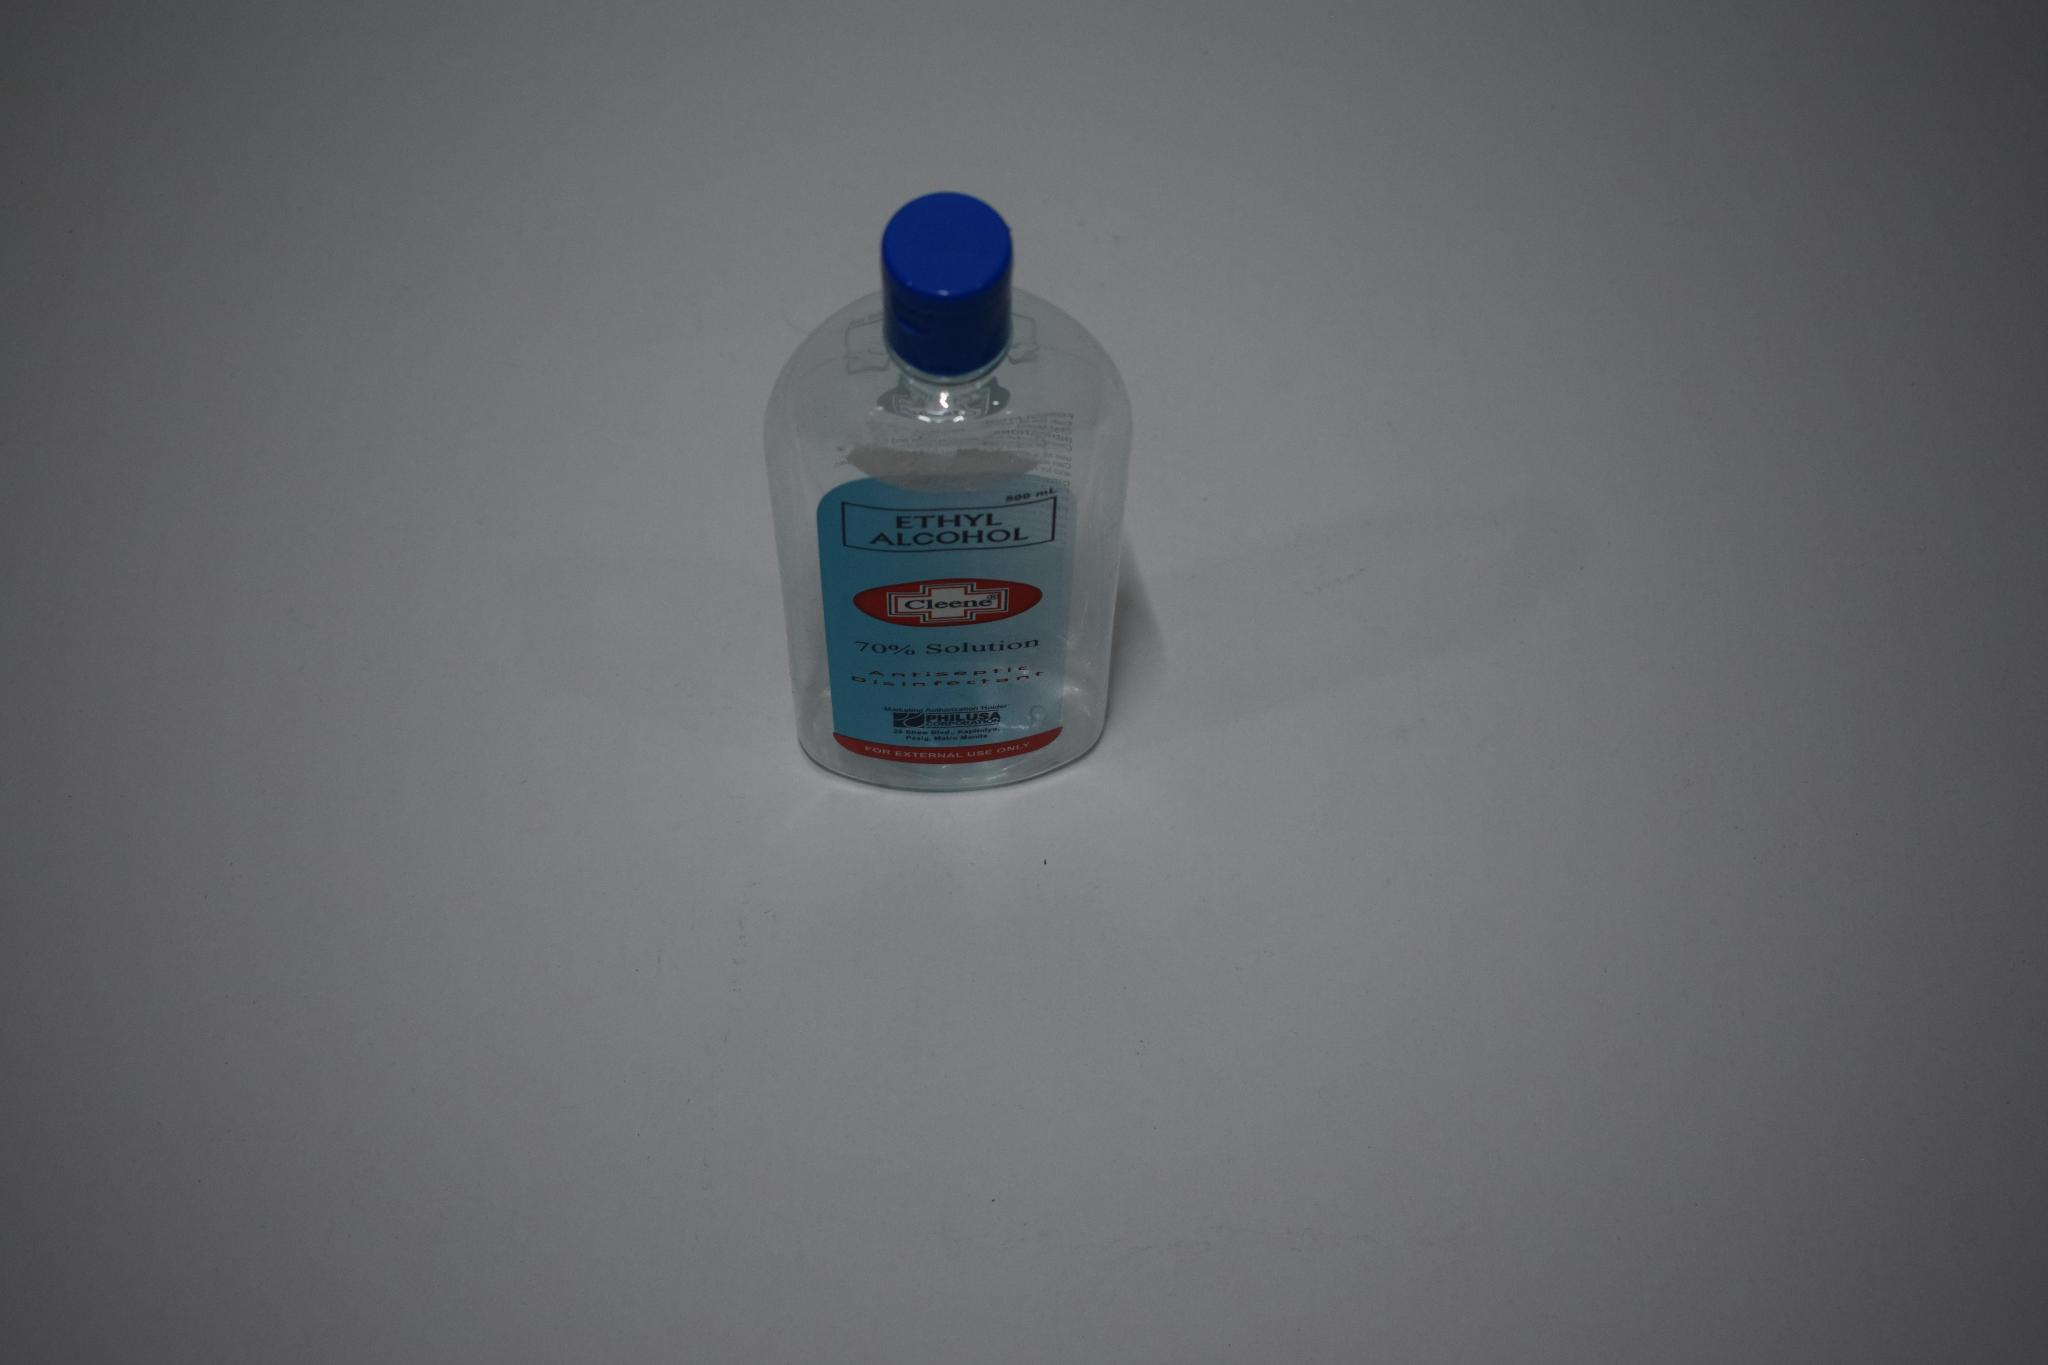bottle: (774, 172, 1153, 804)
